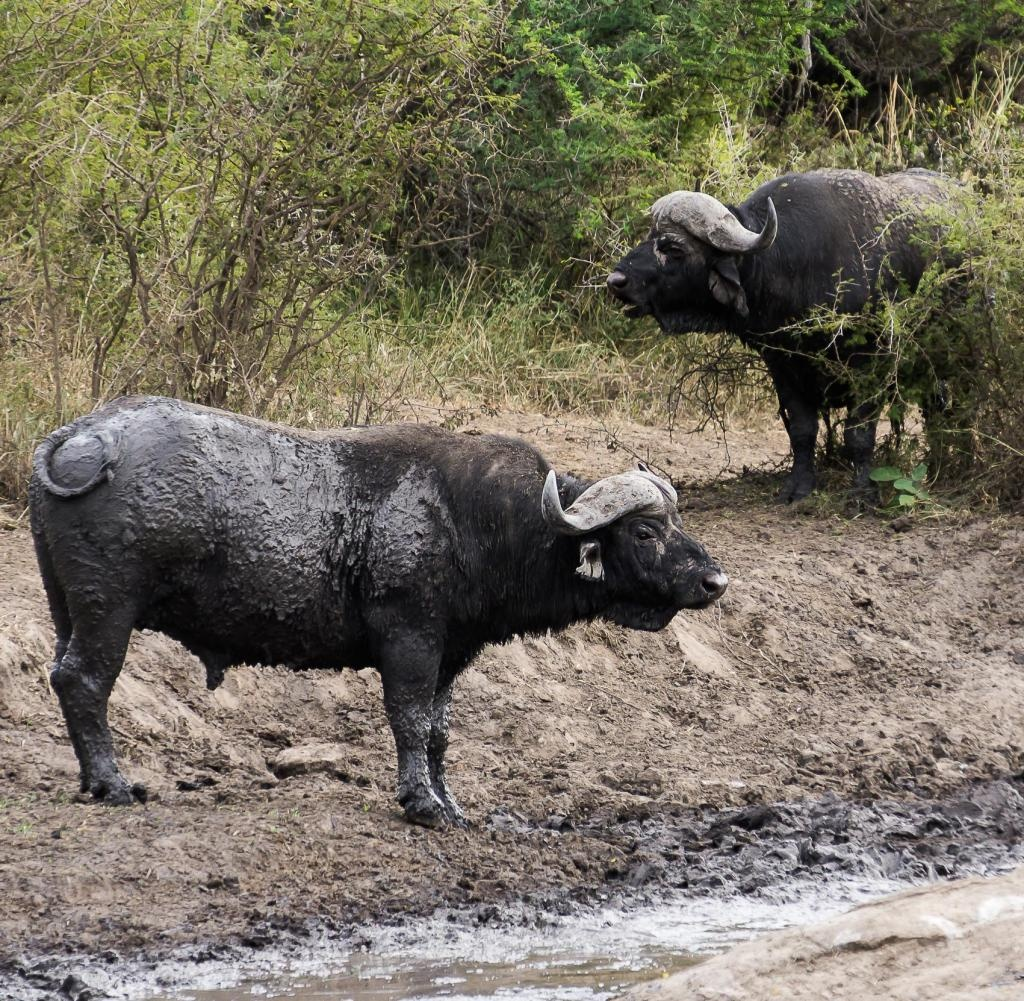buffalo: (25, 397, 728, 833), (605, 166, 986, 491)
